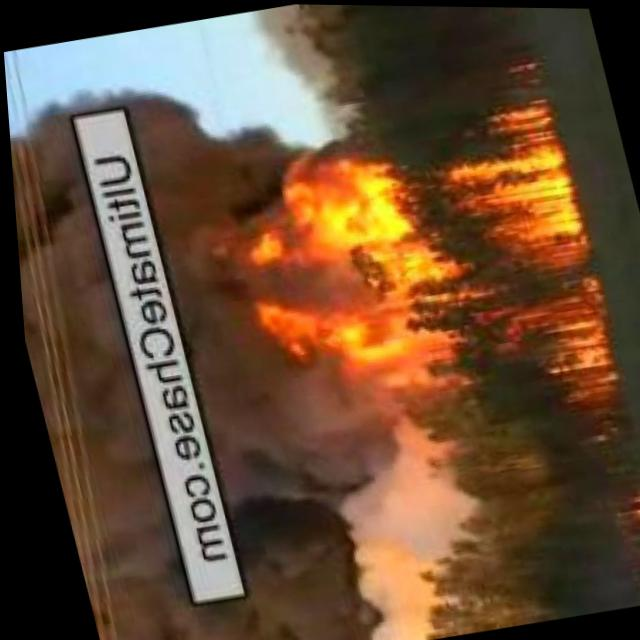Fire: (212, 101, 626, 477), (597, 482, 640, 584)
